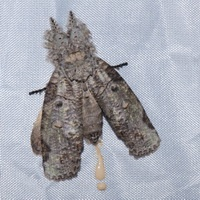insect: (31, 11, 159, 179)
